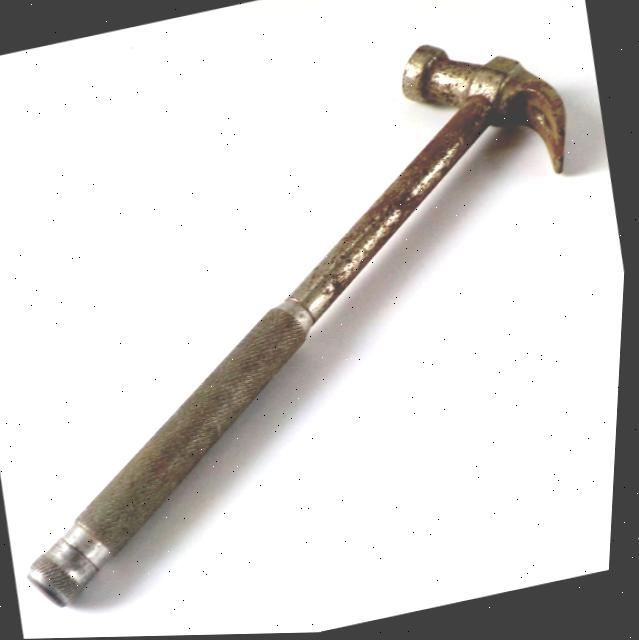hammer: (0, 5, 638, 624)
